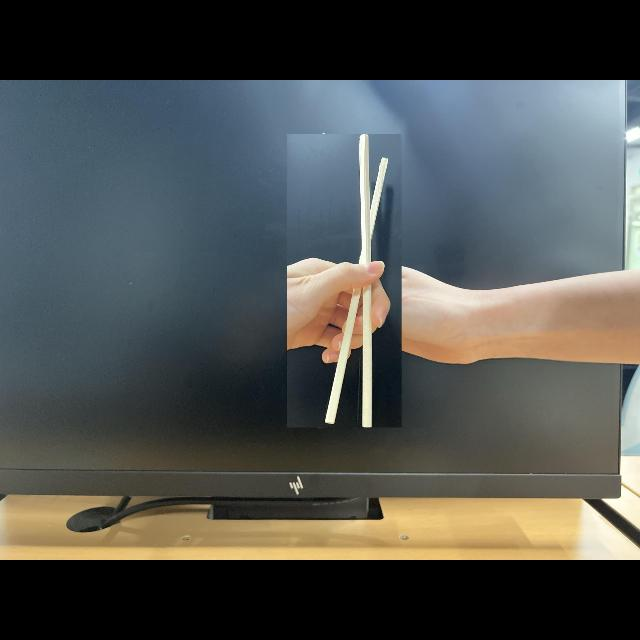stick: (287, 134, 401, 428)
